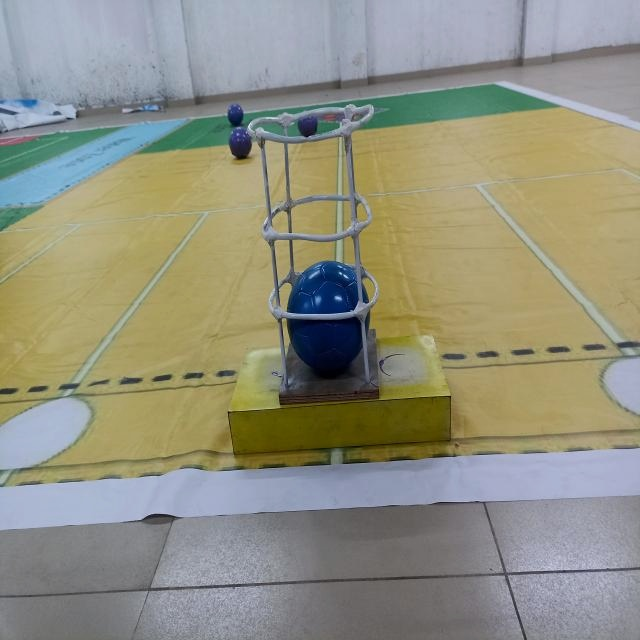blue_ball: (287, 254, 368, 370), (227, 101, 246, 127)
purple_ball: (228, 125, 252, 159), (297, 106, 319, 136)
silo: (244, 97, 385, 407)
